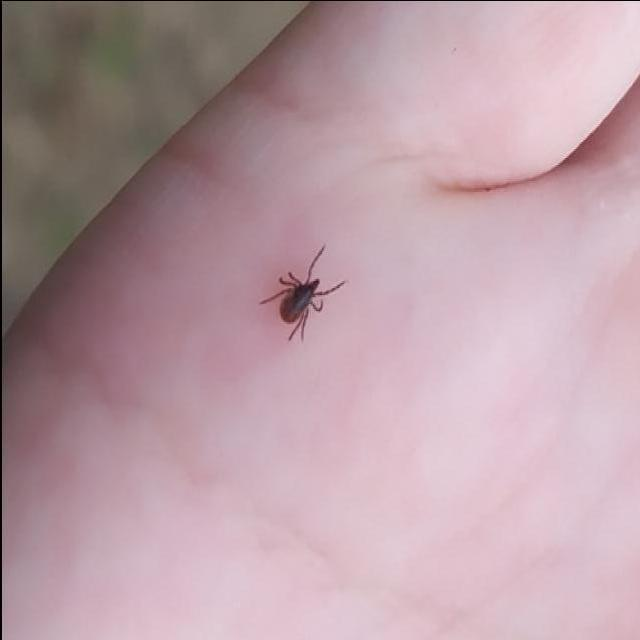Ixodes Ricinus-F-Fed: (256, 244, 343, 342)
